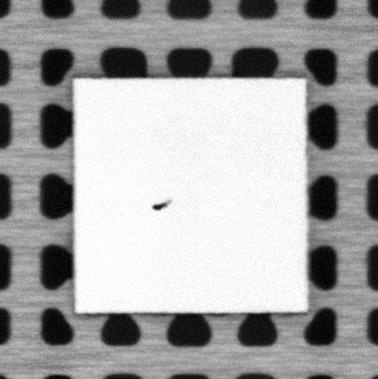DIE_INK: (150, 197, 173, 212)
